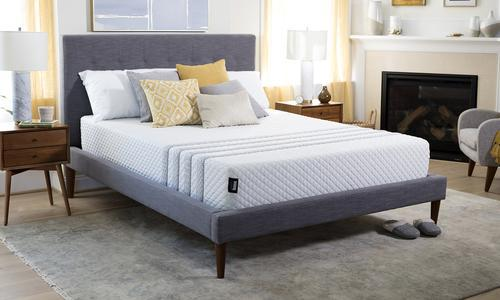bed: (46, 28, 464, 273)
